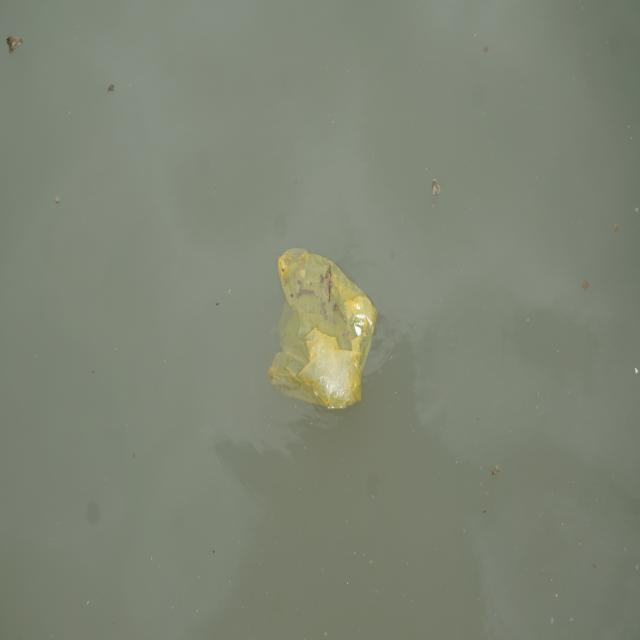Kantong Plastik: (268, 247, 380, 413)
